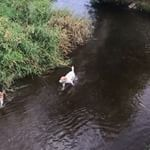puppy: (58, 62, 82, 93)
